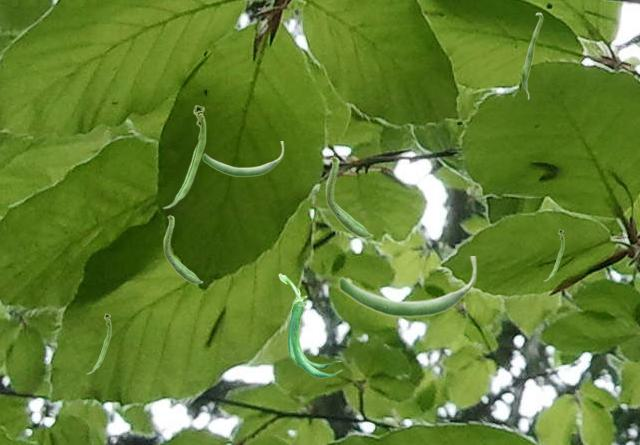french_bean: (338, 256, 476, 317), (278, 273, 341, 377), (162, 104, 205, 208), (325, 155, 372, 237), (202, 141, 283, 176), (163, 214, 202, 283), (521, 12, 542, 99), (86, 313, 110, 373), (543, 229, 563, 280)
